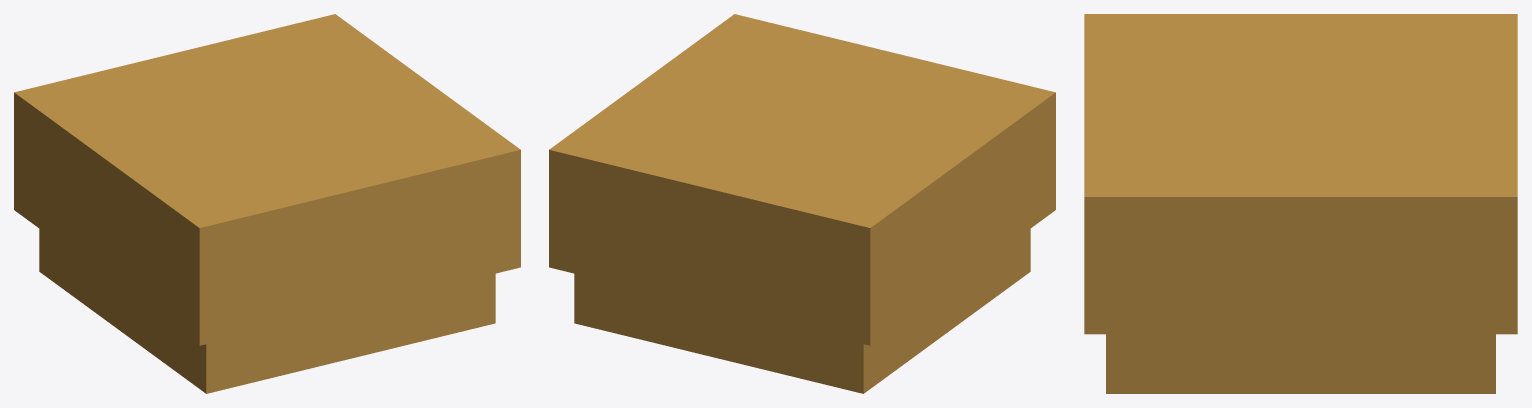
The model's file is product_harbor_broth.glb.
The picture shows the model from 3 angles, left to right: view 1: azimuth 30°, elevation 25°; view 2: azimuth 150°, elevation 25°; view 3: azimuth 270°, elevation 25°; orthographic projection. The views are drawn at different scales.
Parts seen in each view (by area): view 1: product.harbor_broth; view 2: product.harbor_broth; view 3: product.harbor_broth.
Boxes of the visible parts, left/top/right/bottom form: product.harbor_broth: left=14, top=14, right=520, bottom=393; product.harbor_broth: left=549, top=14, right=1055, bottom=393; product.harbor_broth: left=1084, top=14, right=1517, bottom=393.
Size of the model in its own units: 0.24 by 0.126 by 0.24.
